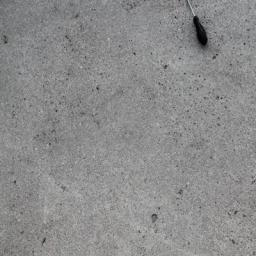FOD: (184, 1, 219, 50)
